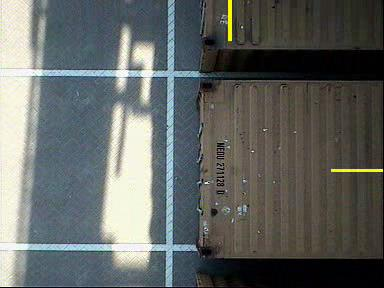groundmarker_2: (78, 146, 166, 208)
